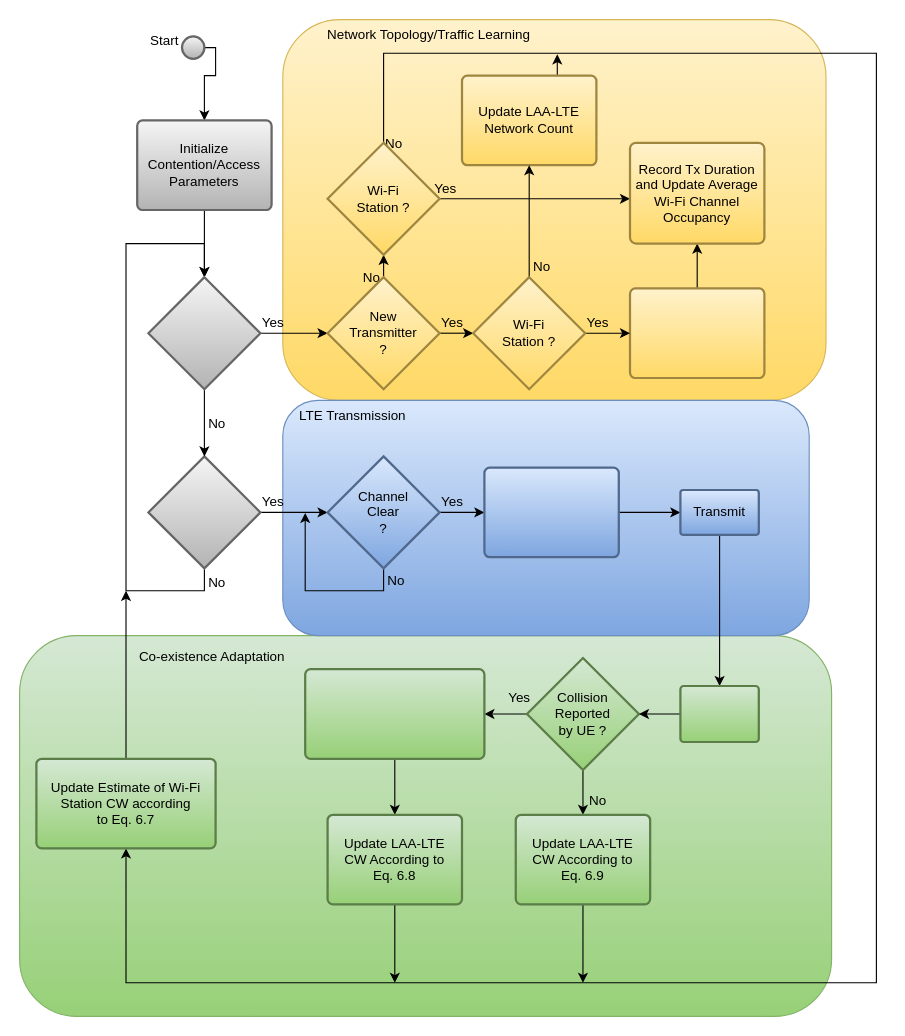
Some shapes in this 905 by 1036 pixel diagram are drawn without their labels. The centre of each missing label's shape, as x and y in pixels:
"Channel in use?" goes at pixel 204 333.
"Data to Send?" goes at pixel 204 512.
"Select Random Backoff and Wait Until Backoff Expires" goes at pixel 551 512.
"Update Channel Use Count" goes at pixel 719 713.
"Update Collision Count and Estimate of Probability of Collision" goes at pixel 394 713.
"Update Wi-Fi Station Count" goes at pixel 696 333.
